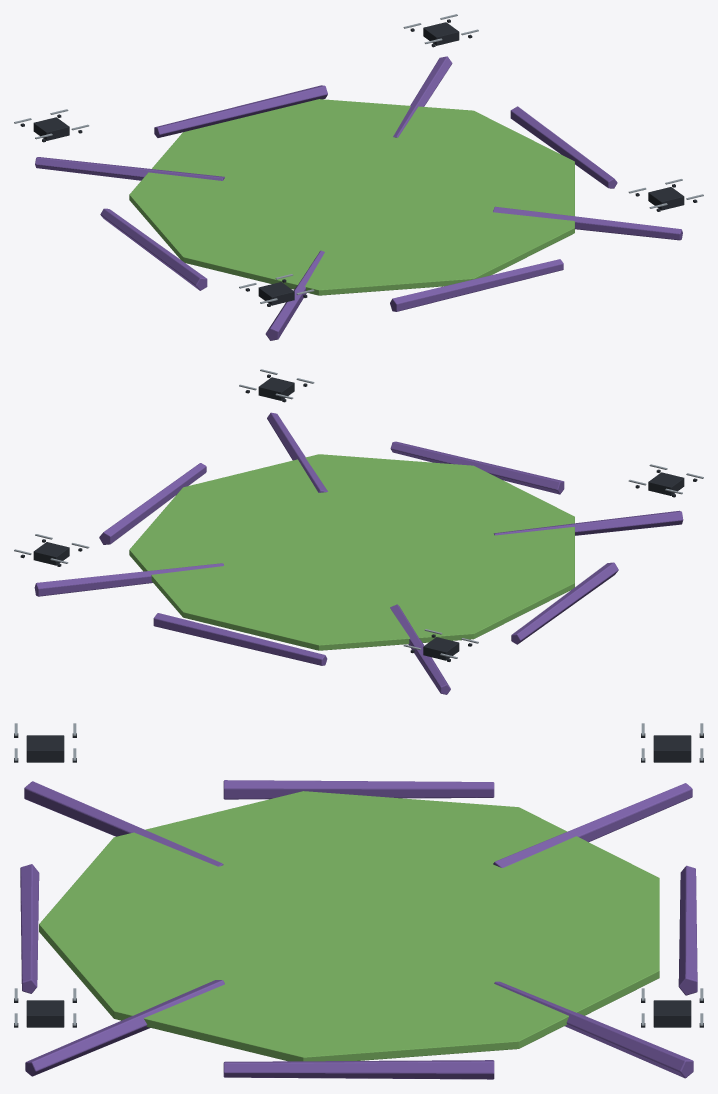
The model's file is trampoline_sky.glb.
3 renders of one model, top to bottom at view 1: azimuth 30°, elevation 25°; view 2: azimuth 150°, elevation 25°; view 3: azimuth 270°, elevation 25°, orthographic. The views are drawn at different scales.
Visible parts, largest first — view 1: trampoline_sky_part_8, trampoline_sky_part_2, trampoline_sky_part_6, trampoline_sky_part_1, trampoline_sky_part_5, trampoline_sky_part_4, trampoline_sky_part_0, trampoline_sky_part_3, trampoline_sky_part_7, trampoline_sky_part_19, trampoline_sky_part_39, trampoline_sky_part_9 (+1 smaller); view 2: trampoline_sky_part_8, trampoline_sky_part_6, trampoline_sky_part_2, trampoline_sky_part_7, trampoline_sky_part_3, trampoline_sky_part_4, trampoline_sky_part_0, trampoline_sky_part_5, trampoline_sky_part_1, trampoline_sky_part_39, trampoline_sky_part_9, trampoline_sky_part_29 (+1 smaller); view 3: trampoline_sky_part_8, trampoline_sky_part_0, trampoline_sky_part_4, trampoline_sky_part_7, trampoline_sky_part_1, trampoline_sky_part_5, trampoline_sky_part_3, trampoline_sky_part_6, trampoline_sky_part_2, trampoline_sky_part_9, trampoline_sky_part_19, trampoline_sky_part_29 (+1 smaller).
Boxes of the visible parts, x1,y1,x2,y2 form: trampoline_sky_part_8: (129, 99, 574, 295); trampoline_sky_part_2: (390, 259, 563, 311); trampoline_sky_part_6: (154, 85, 327, 137); trampoline_sky_part_1: (493, 206, 682, 240); trampoline_sky_part_5: (35, 157, 224, 180); trampoline_sky_part_4: (100, 208, 207, 290); trampoline_sky_part_0: (510, 106, 617, 188); trampoline_sky_part_3: (265, 250, 324, 340); trampoline_sky_part_7: (393, 56, 452, 137); trampoline_sky_part_19: (258, 282, 294, 305); trampoline_sky_part_39: (648, 187, 684, 210); trampoline_sky_part_9: (33, 117, 69, 140); trampoline_sky_part_8: (129, 454, 574, 650); trampoline_sky_part_6: (153, 613, 327, 665); trampoline_sky_part_2: (390, 441, 564, 494); trampoline_sky_part_7: (34, 563, 223, 596); trampoline_sky_part_3: (494, 510, 683, 535); trampoline_sky_part_4: (511, 562, 618, 644); trampoline_sky_part_0: (99, 463, 206, 544); trampoline_sky_part_5: (390, 604, 450, 694); trampoline_sky_part_1: (267, 412, 327, 492); trampoline_sky_part_39: (258, 377, 294, 400); trampoline_sky_part_9: (423, 637, 459, 660); trampoline_sky_part_29: (33, 542, 69, 565); trampoline_sky_part_8: (39, 791, 659, 1061); trampoline_sky_part_0: (223, 1060, 494, 1079); trampoline_sky_part_4: (223, 780, 494, 799); trampoline_sky_part_7: (494, 981, 693, 1078); trampoline_sky_part_1: (25, 980, 224, 1076); trampoline_sky_part_5: (493, 783, 692, 867); trampoline_sky_part_3: (24, 781, 223, 866); trampoline_sky_part_6: (678, 865, 697, 995); trampoline_sky_part_2: (20, 864, 39, 993); trampoline_sky_part_9: (653, 735, 691, 762); trampoline_sky_part_19: (26, 735, 64, 762); trampoline_sky_part_29: (653, 1000, 691, 1027).
Size of the model in its own units: 7.34 by 0.7364 by 7.11.
